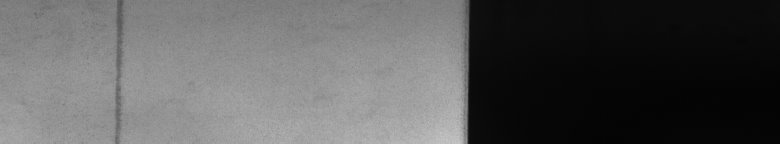hd: (111, 4, 128, 136)
